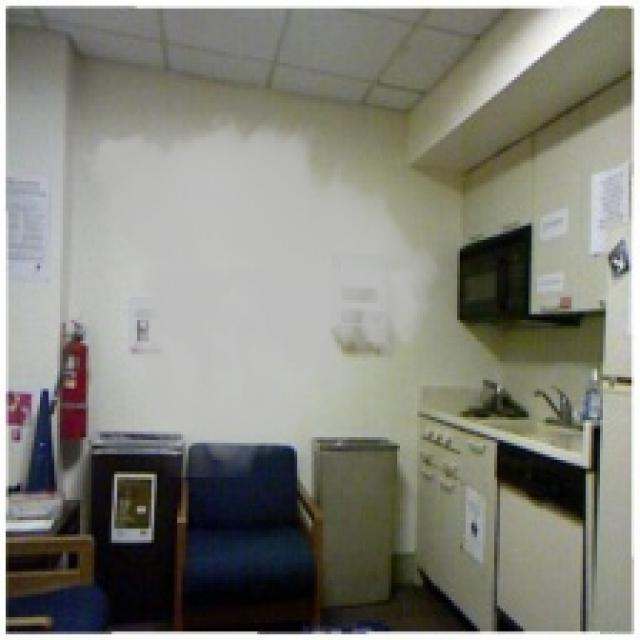Smoke: (69, 109, 452, 478)
